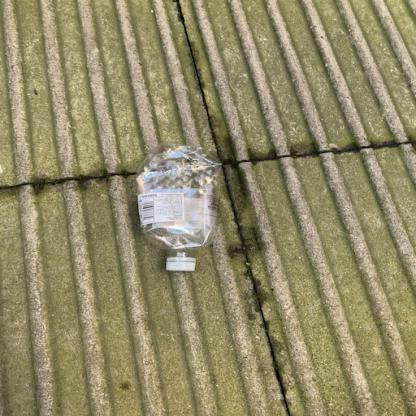trash: (132, 137, 225, 274)
